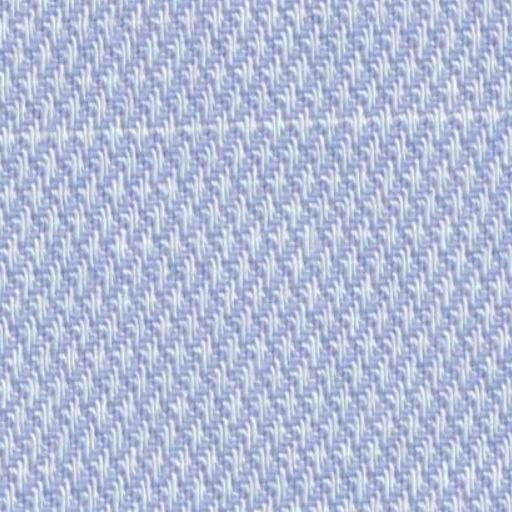TuoSha: (16, 86, 493, 170)
